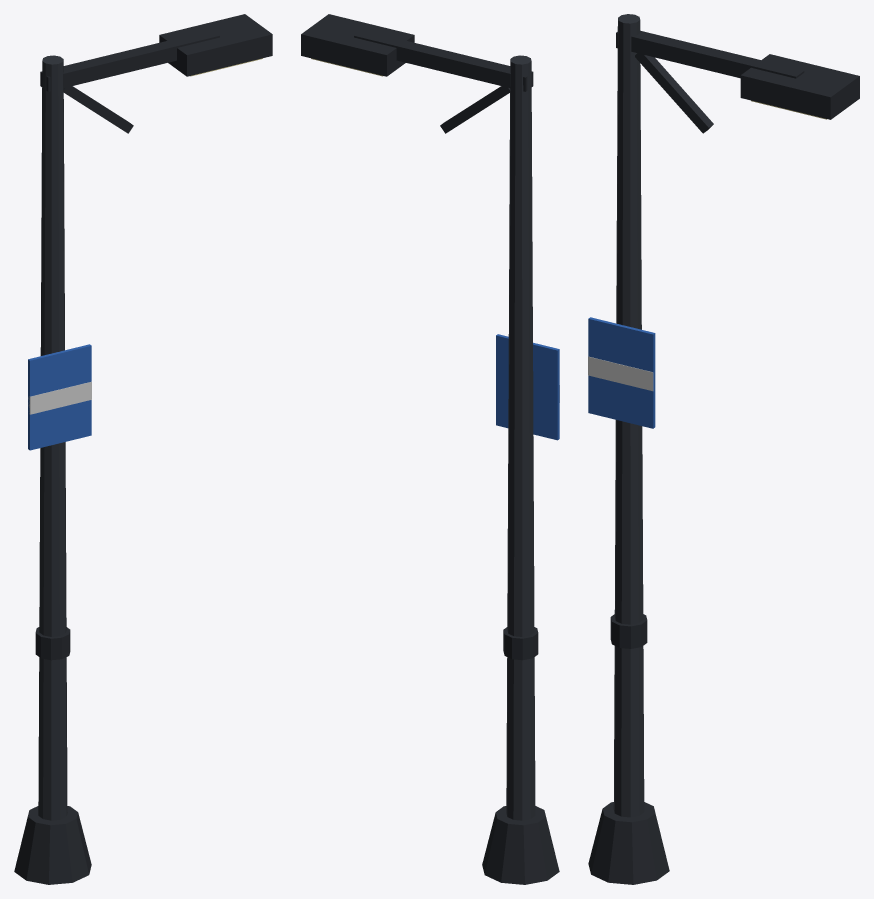
The model's file is lamp.glb.
The picture shows the model from 3 angles, left to right: view 1: azimuth 30°, elevation 25°; view 2: azimuth 150°, elevation 25°; view 3: azimuth 330°, elevation 25°; orthographic projection. The views are drawn at different scales.
Parts seen in each view (by area): view 1: gh_lamp; view 2: gh_lamp; view 3: gh_lamp.
Part boxes in pixels (bbox=[...]): gh_lamp: bbox=[14, 14, 272, 884]; gh_lamp: bbox=[301, 14, 559, 884]; gh_lamp: bbox=[588, 14, 859, 884].
Size of the model in its own units: 1.39 by 4.5 by 0.4.
